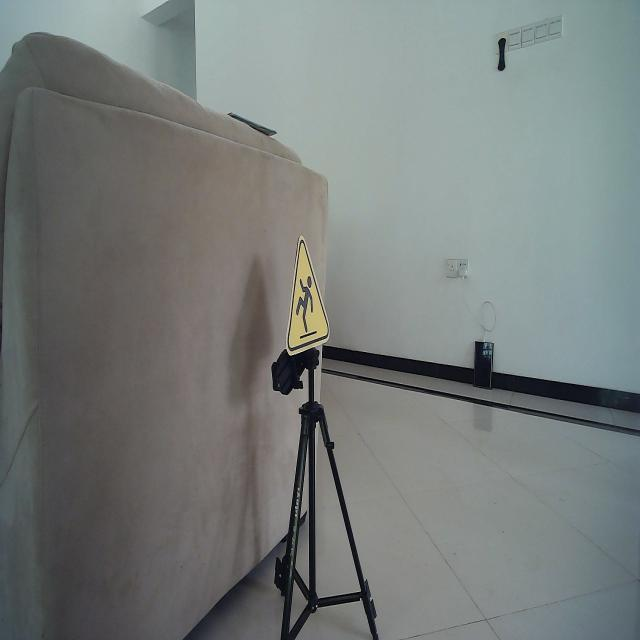slippery_sign: (285, 235, 331, 357)
